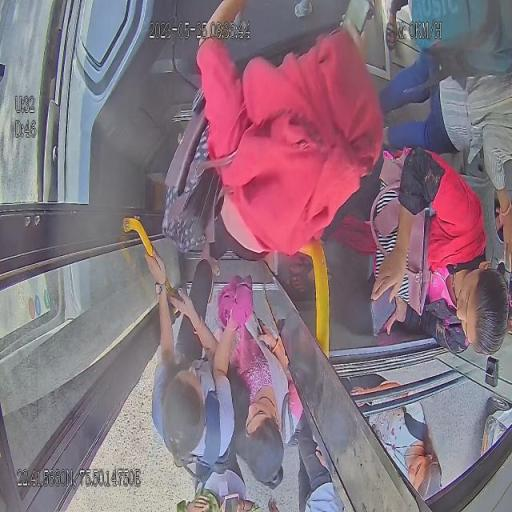persona: (162, 0, 382, 263), (327, 145, 510, 358), (378, 1, 512, 278), (143, 245, 260, 511), (214, 273, 296, 489)
